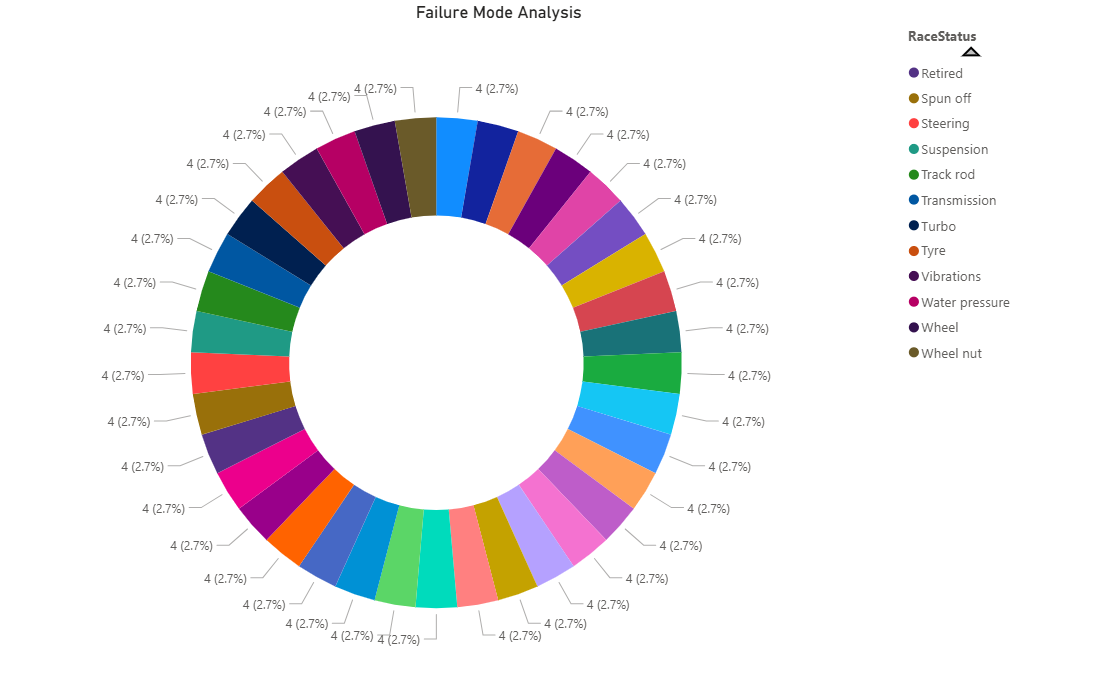

The page's visual inventory and layout, read from the dashboard file:
{"tool":"powerbi","page":{"name":"Page 7","canvas":[1280,720],"ordinal":4},"visuals":[{"type":"donutChart","title":"Failure Mode Analysis","fields":{"Y":["CountNonNull(v_F1_Safety_Audit.InfrastructureIncidents)"],"Category":["v_F1_Engineering_Master.RaceStatus"]},"box":[120,11.2,1072.5,698.8],"z":0}]}

Visuals, with their boxes on the page's 1280x720 design canvas (x1, y1, x2, y2). These are canvas units, not pixel positions in the 1098x695 screenshot, which may show the page scaled, cropped or inside an application window:
"Failure Mode Analysis" donutChart: 120, 11, 1192, 710
